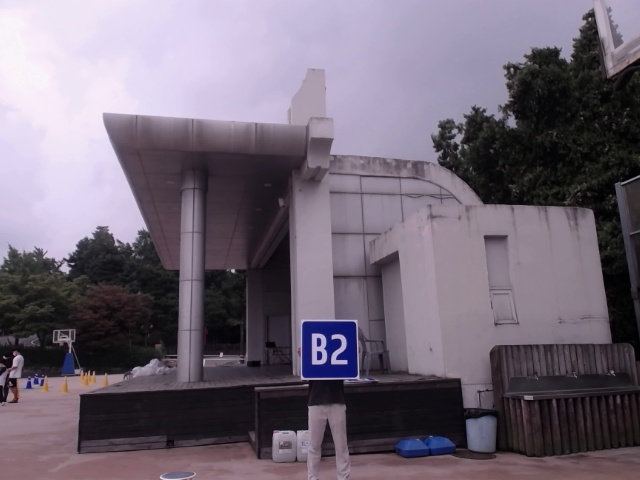delivery_b2: (301, 320, 358, 378)
